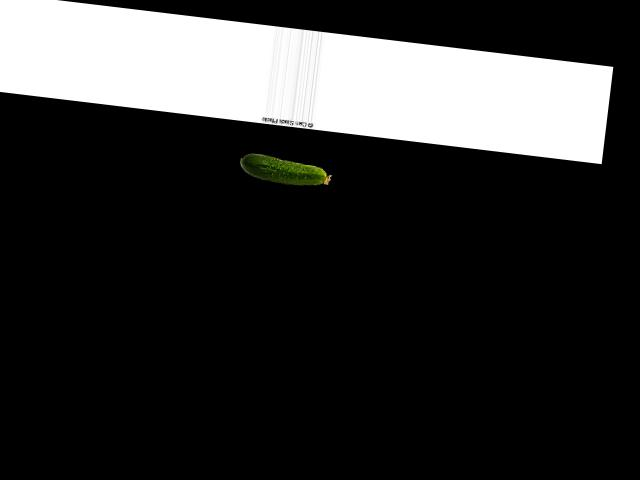cucumber: (237, 151, 332, 189)
